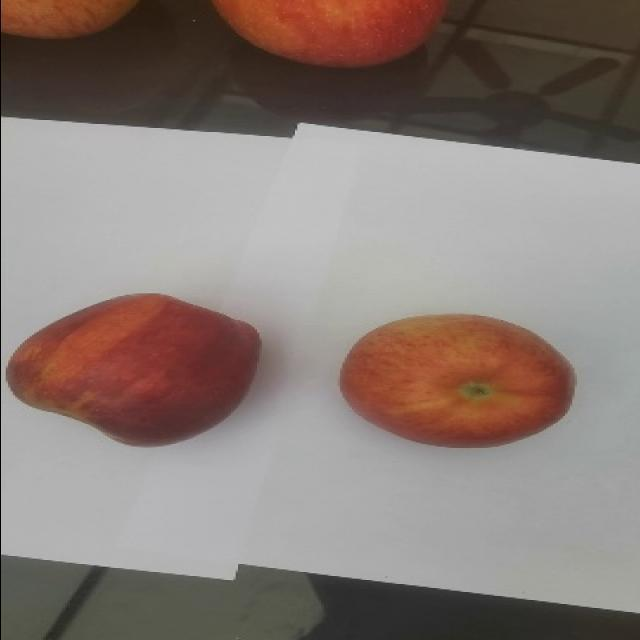Apple: (3, 288, 268, 454), (334, 313, 581, 452), (213, 0, 455, 71), (0, 0, 140, 44)
